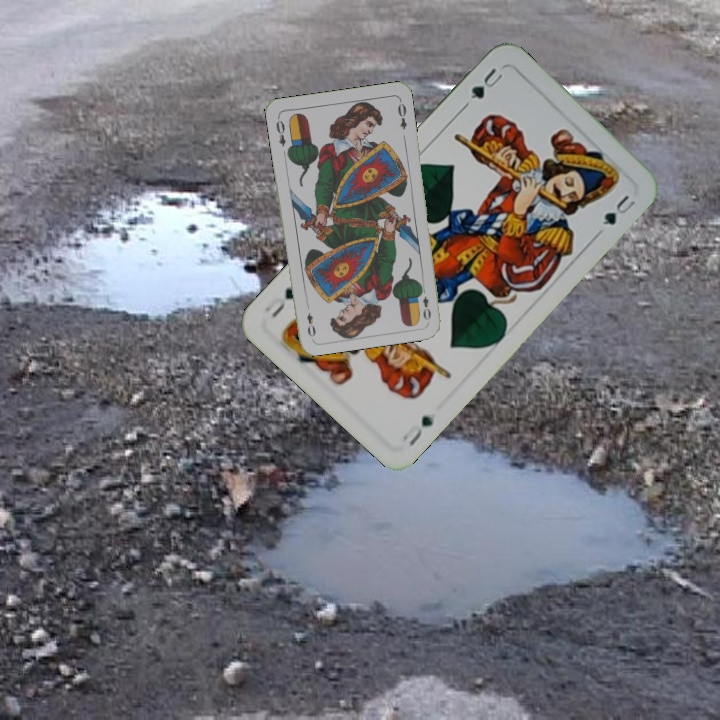EO: (416, 283, 433, 323), (272, 113, 288, 149)
GU: (460, 63, 507, 110), (398, 411, 437, 450)
